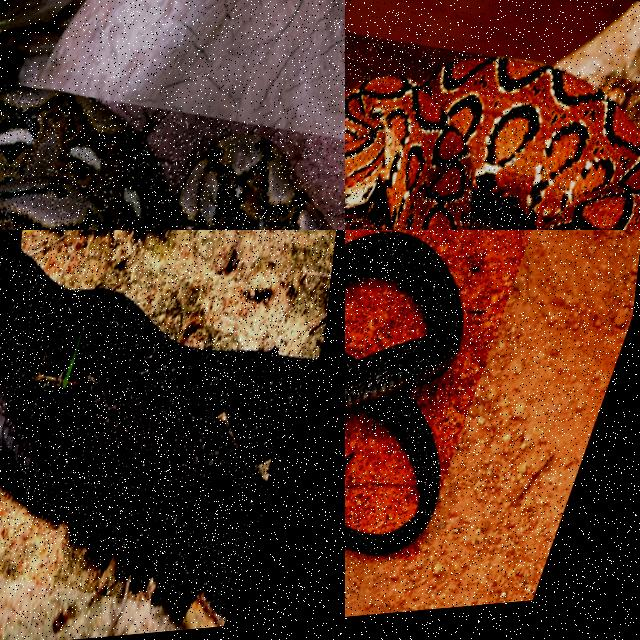Daboia siamensis: (345, 58, 639, 229)
Malayopython reticulatus: (0, 91, 323, 229)
Naja siamensis: (0, 230, 316, 615), (345, 232, 462, 555)
snake: (0, 230, 316, 615), (345, 58, 639, 229), (0, 91, 323, 229), (345, 232, 462, 555)
